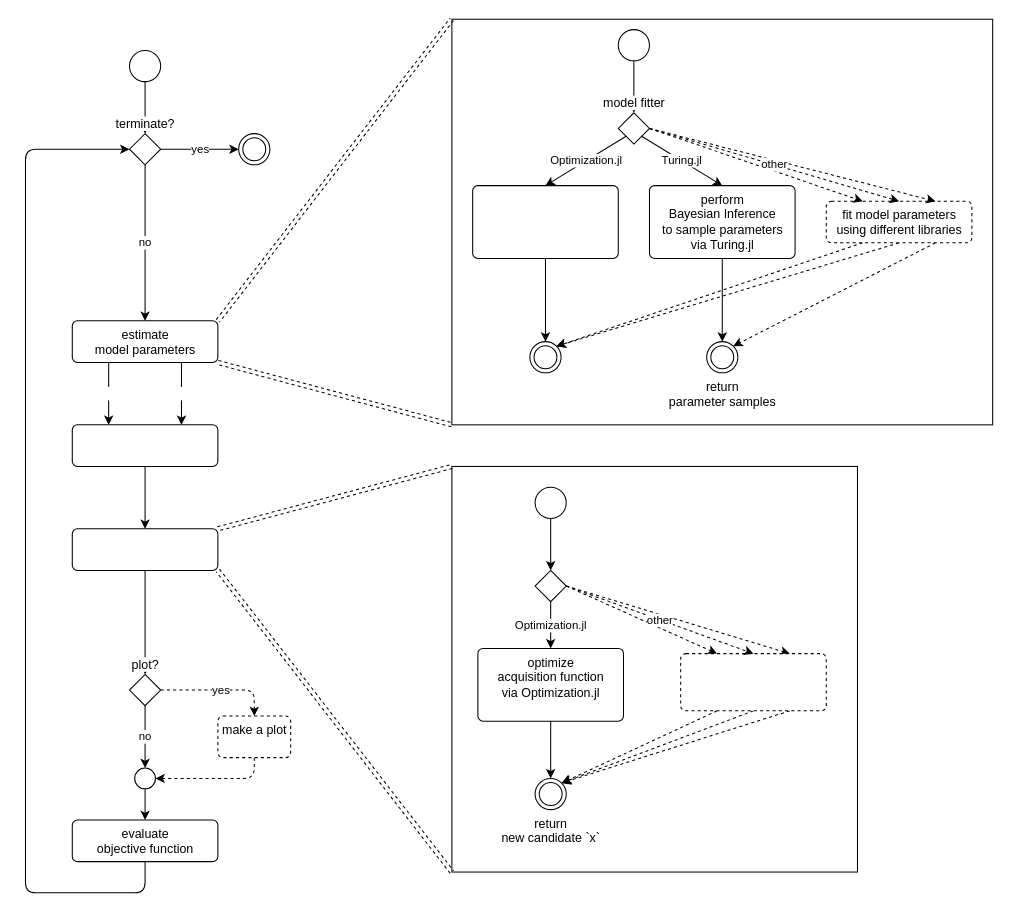
Image size: 1011x920. Some labels were removed from this diagram. The centre of each missing label's shape, as x and y in pixels:
acquisition maximizer: (x=550, y=585)
construct acquisition function: (x=144, y=445)
maximize acquisition function: (x=144, y=549)
optimize acquisition function using different libraries: (x=753, y=682)
optimize for MLE model parameters via Optimization.jl: (x=545, y=221)
return MLE parameters: (x=545, y=357)
